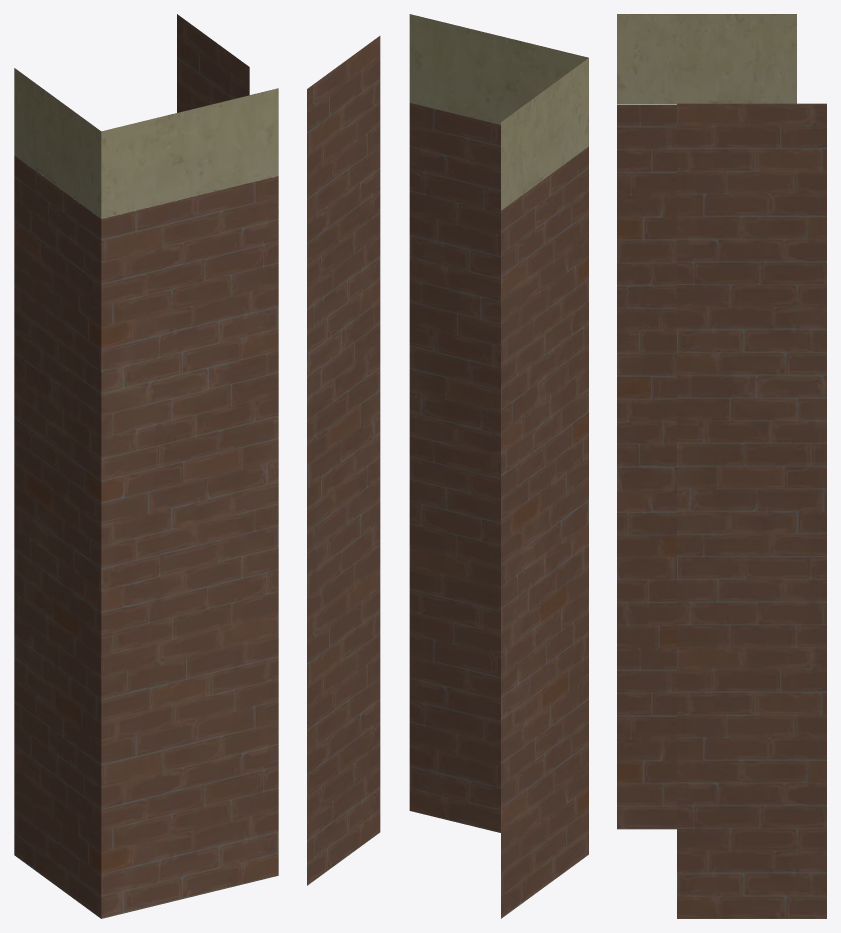
Rendered from Brick_TopTrim_90Angle_R.glb.
The picture shows the model from 3 angles, left to right: view 1: azimuth 30°, elevation 25°; view 2: azimuth 150°, elevation 25°; view 3: azimuth 270°, elevation 25°; orthographic projection. The views are drawn at different scales.
Visible parts, largest first — view 1: Brick_TopTrim_90Angle_R; view 2: Brick_TopTrim_90Angle_R; view 3: Brick_TopTrim_90Angle_R.
Boxes of the visible parts, box(x1,y1,x2,y2) form: Brick_TopTrim_90Angle_R: box(14, 14, 278, 918); Brick_TopTrim_90Angle_R: box(307, 14, 588, 918); Brick_TopTrim_90Angle_R: box(617, 14, 826, 918).
Bounding box in the file's own units: 0.7063 × 3 × 0.7001.
2 materials, 2 textured.
